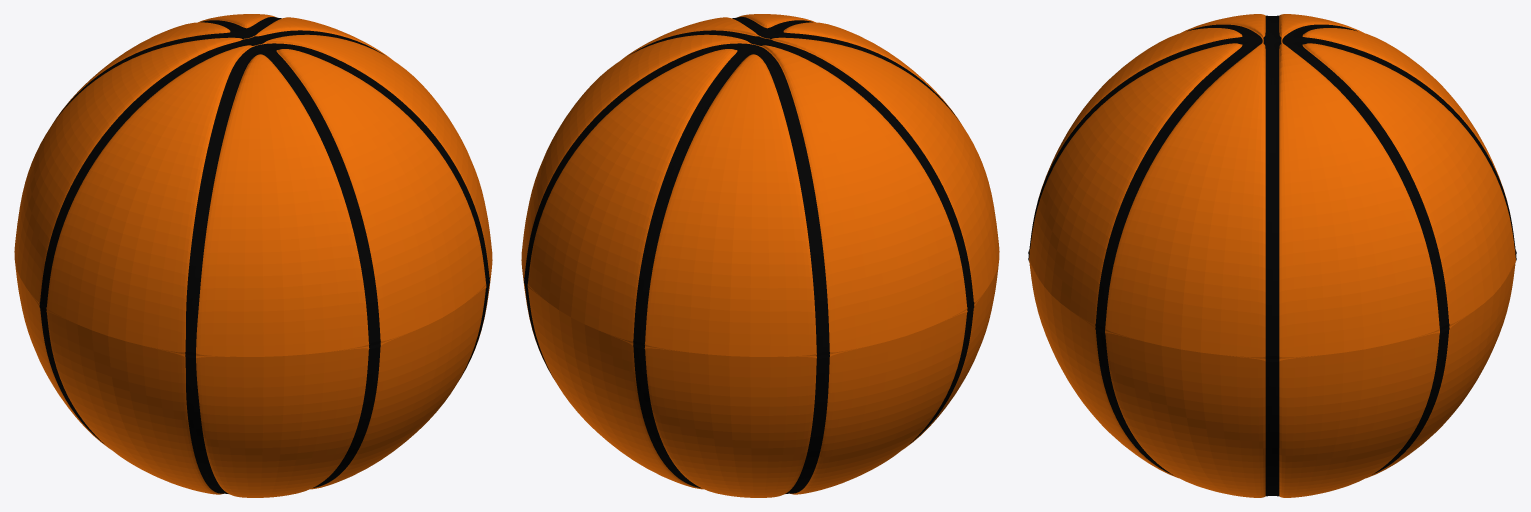
File: basketball.fbx
3 renders of one model, left to right at view 1: azimuth 30°, elevation 25°; view 2: azimuth 150°, elevation 25°; view 3: azimuth 270°, elevation 25°, orthographic.
Visible parts, largest first — view 1: Sphere; view 2: Sphere; view 3: Sphere.
Boxes of the visible parts, <box> form: Sphere: <box>14,14,492,497</box>; Sphere: <box>521,14,999,497</box>; Sphere: <box>1028,14,1516,497</box>.
Size of the model in its own units: 199 by 196 by 199.
